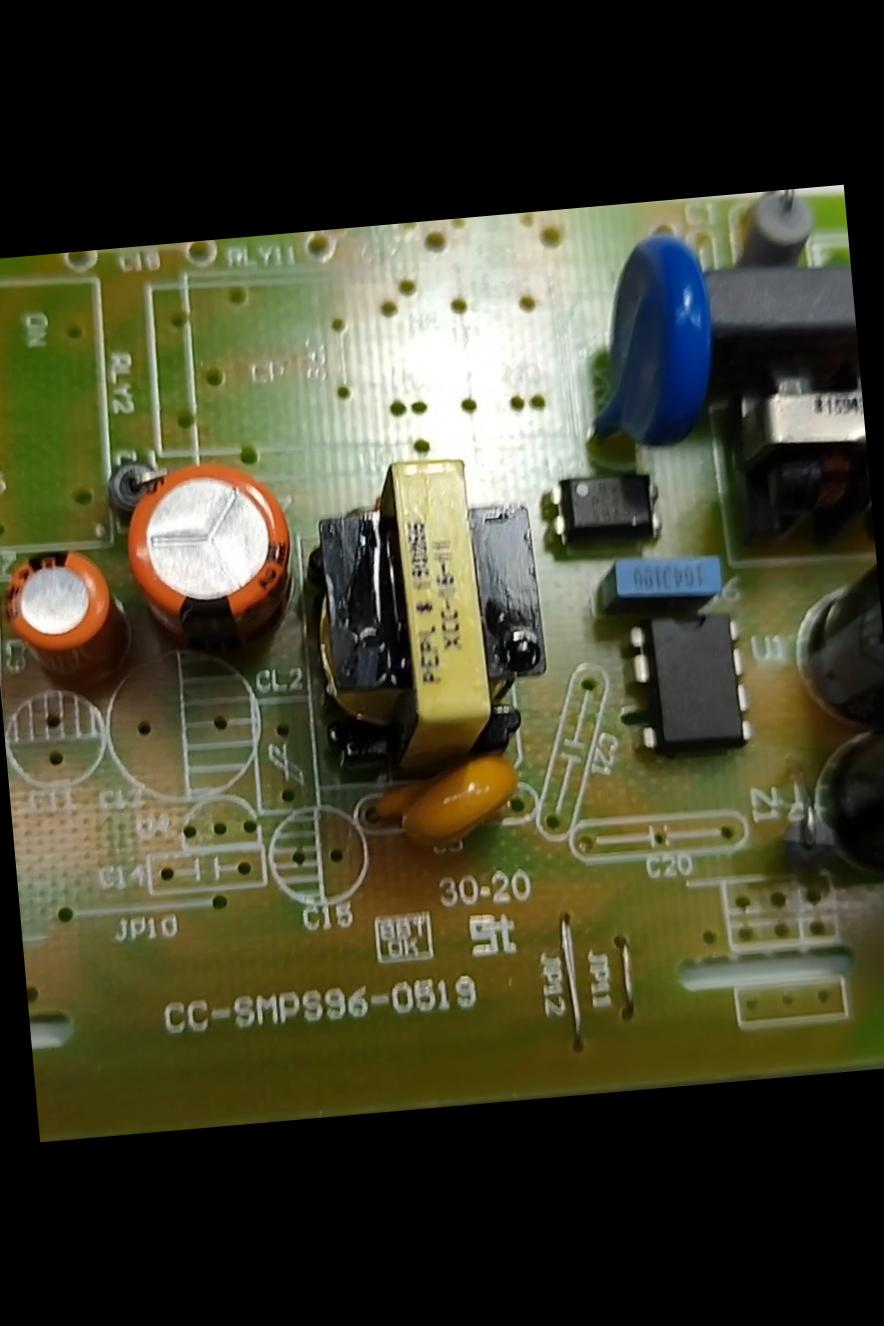Cap1: (108, 423, 305, 660)
Cap2: (0, 528, 141, 711)
Cap3: (769, 523, 883, 724)
Cap4: (771, 666, 883, 903)
MOSFET: (616, 595, 757, 777)
Mov: (567, 210, 735, 465)
Resistor: (732, 188, 828, 277)
Transformer: (278, 433, 568, 809), (710, 329, 874, 556)
